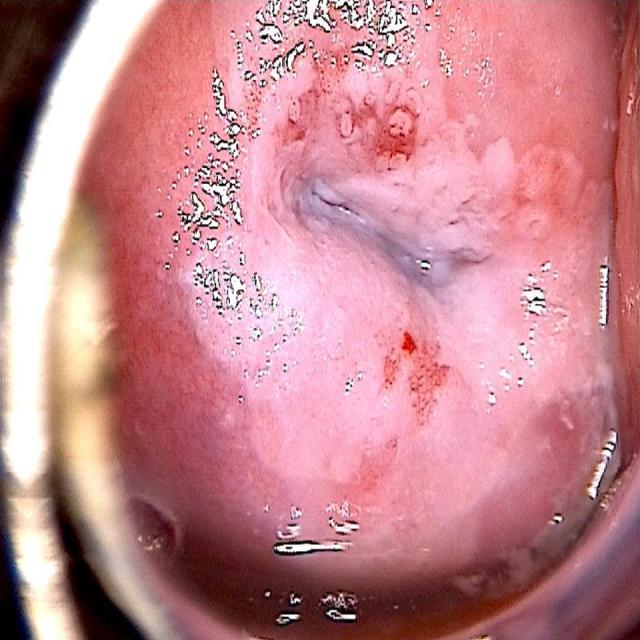cervical_lesion: (144, 0, 583, 489)
